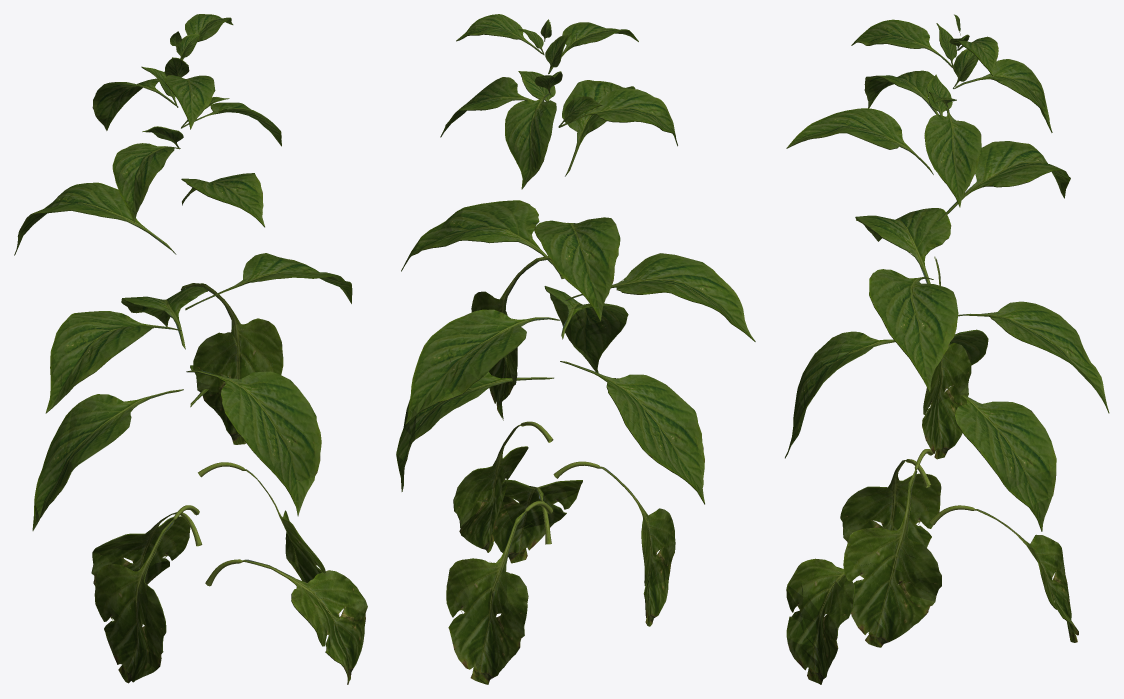
File: VG07_3_leaves.dae
3 renders of one model, left to right at view 1: azimuth 30°, elevation 25°; view 2: azimuth 150°, elevation 25°; view 3: azimuth 270°, elevation 25°, orthographic.
Parts seen in each view (by area): view 1: VG07_007; view 2: VG07_007; view 3: VG07_007.
Boxes of the visible parts, box(x1,y1,x2,y2) form: VG07_007: box(14, 14, 367, 684); VG07_007: box(396, 14, 755, 684); VG07_007: box(785, 14, 1109, 684).
Size of the model in its own units: 17.31 by 14.76 by 31.35.
